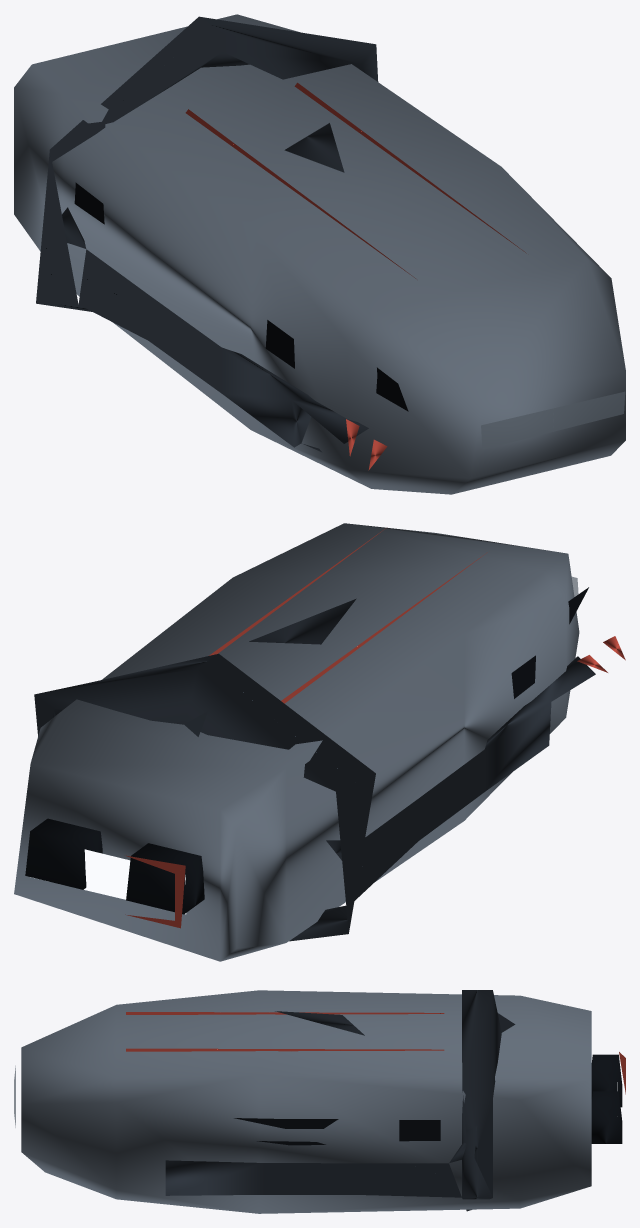
File: paragraf-wykonawcy-coalition-27-lod2.glb
The picture shows the model from 3 angles, top to bottom: view 1: azimuth 30°, elevation 25°; view 2: azimuth 150°, elevation 25°; view 3: azimuth 270°, elevation 25°; orthographic projection. The views are drawn at different scales.
Size of the model in its own units: 9.61 by 8.2 by 21.27.
